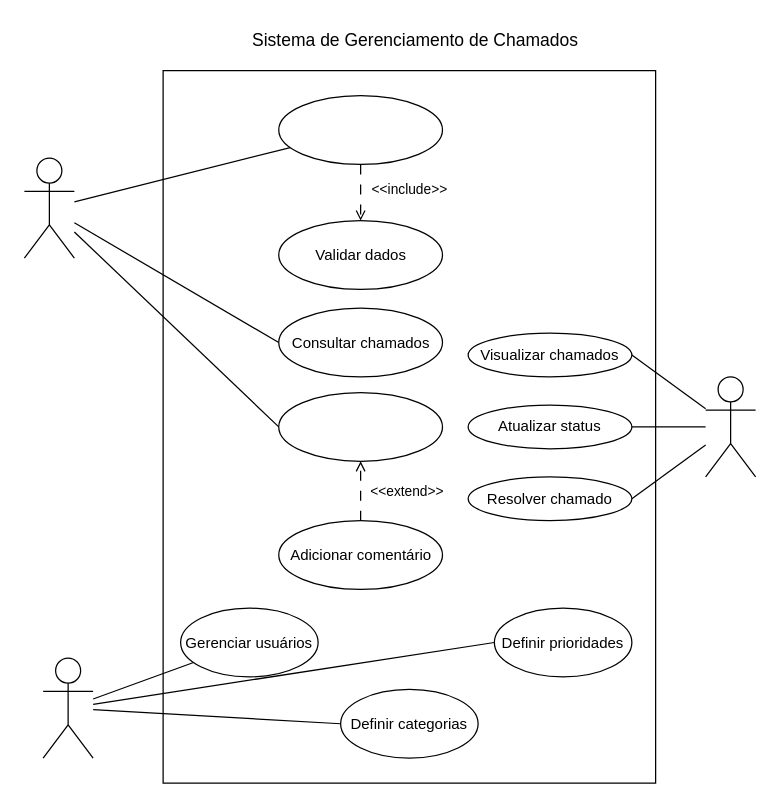
This 779x805 diagram has some shape labels left out. Each missing label, with the centre of its shape:
"Abrir chamado" belongs at point 360,129.
"Administrador" belongs at point 67,707.
"Analista" belongs at point 730,426.
"Comentar chamado" belongs at point 360,426.
"Usuário" belongs at point 48,207.
